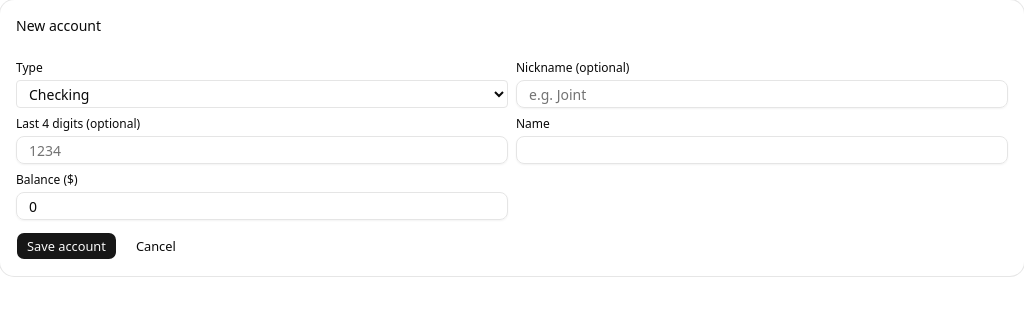
Test: AddAccountForm › blocks submit with empty name
This screenshot has width=1024, height=322.
Click the button "Save account" at (66, 246), box [16, 232, 117, 260]
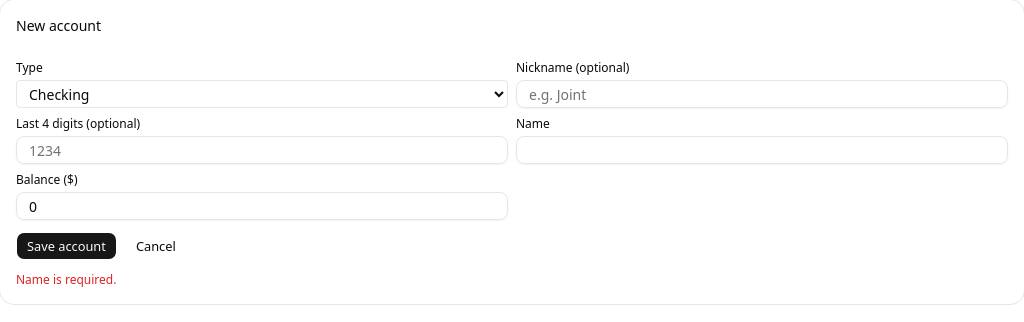
Expected: the text "Name is required." is shown, [16, 271, 116, 288]
